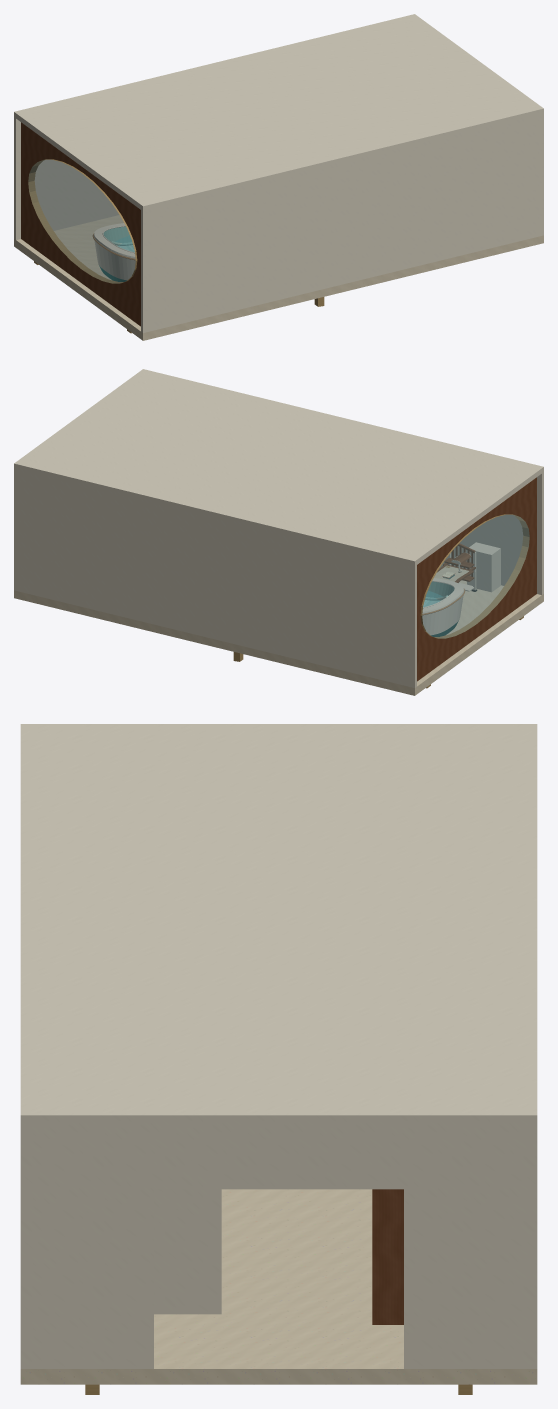
File: NightGardenD15Specialty_422_r001.glb
The picture shows the model from 3 angles, top to bottom: view 1: azimuth 30°, elevation 25°; view 2: azimuth 150°, elevation 25°; view 3: azimuth 270°, elevation 25°; orthographic projection. The views are drawn at different scales.
Visible parts, largest first — view 1: NG422_Ceiling, NG422_SouthSide, NG422_OvalAtriumGlass, NG422_RoomFloor, NG422_OvalWindowReveal, NG422_NorthSide, NG422_ReservedRestSupport__Hollow continuous basin shell wit, NG422_OvalDepthReturn; view 2: NG422_Ceiling, NG422_NorthSide, NG422_OvalAtriumGlass, NG422_RoomFloor, NG422_OvalWindowReveal, NG422_SouthSide, NG422_ReservedRestSupport__Hollow continuous basin shell wit, NG422_OvalDepthReturn, NG422_RinseServiceMount; view 3: NG422_Ceiling, NG422_RoomFloor, NG422_EntryShoulderNorth, NG422_EntryShoulderSouth, NG422_EntryHeader, NG422_WashEntrySide, NG422_EntryPrivacyDogleg, NG422_NorthSide, NG422_SouthSide.
Boxes of the visible parts, x1,y1,x2,y2 form: NG422_Ceiling: (14, 14, 543, 211); NG422_SouthSide: (141, 114, 543, 332); NG422_OvalAtriumGlass: (28, 160, 135, 283); NG422_RoomFloor: (14, 215, 543, 340); NG422_OvalWindowReveal: (21, 122, 140, 326); NG422_NorthSide: (14, 117, 119, 239); NG422_ReservedRestSupport__Hollow continuous basin shell wit: (93, 223, 135, 281); NG422_OvalDepthReturn: (28, 159, 137, 283); NG422_Ceiling: (14, 369, 543, 566); NG422_NorthSide: (14, 469, 416, 687); NG422_OvalAtriumGlass: (422, 515, 529, 638); NG422_RoomFloor: (14, 580, 543, 695); NG422_OvalWindowReveal: (417, 477, 536, 681); NG422_SouthSide: (440, 472, 543, 594); NG422_ReservedRestSupport__Hollow continuous basin shell wit: (422, 578, 464, 636); NG422_OvalDepthReturn: (420, 514, 529, 638); NG422_RinseServiceMount: (467, 542, 500, 592); NG422_Ceiling: (20, 724, 537, 1125); NG422_RoomFloor: (20, 1189, 537, 1384); NG422_EntryShoulderNorth: (404, 1125, 528, 1368); NG422_EntryShoulderSouth: (29, 1125, 153, 1368); NG422_EntryHeader: (150, 1125, 407, 1189); NG422_WashEntrySide: (154, 1189, 221, 1314); NG422_EntryPrivacyDogleg: (372, 1189, 403, 1324); NG422_NorthSide: (528, 1125, 537, 1368); NG422_SouthSide: (20, 1125, 29, 1368).
Bounding box in the file's own units: 12.9 × 4.91 × 7.2.
Materials: 61 (43 with a texture image).
